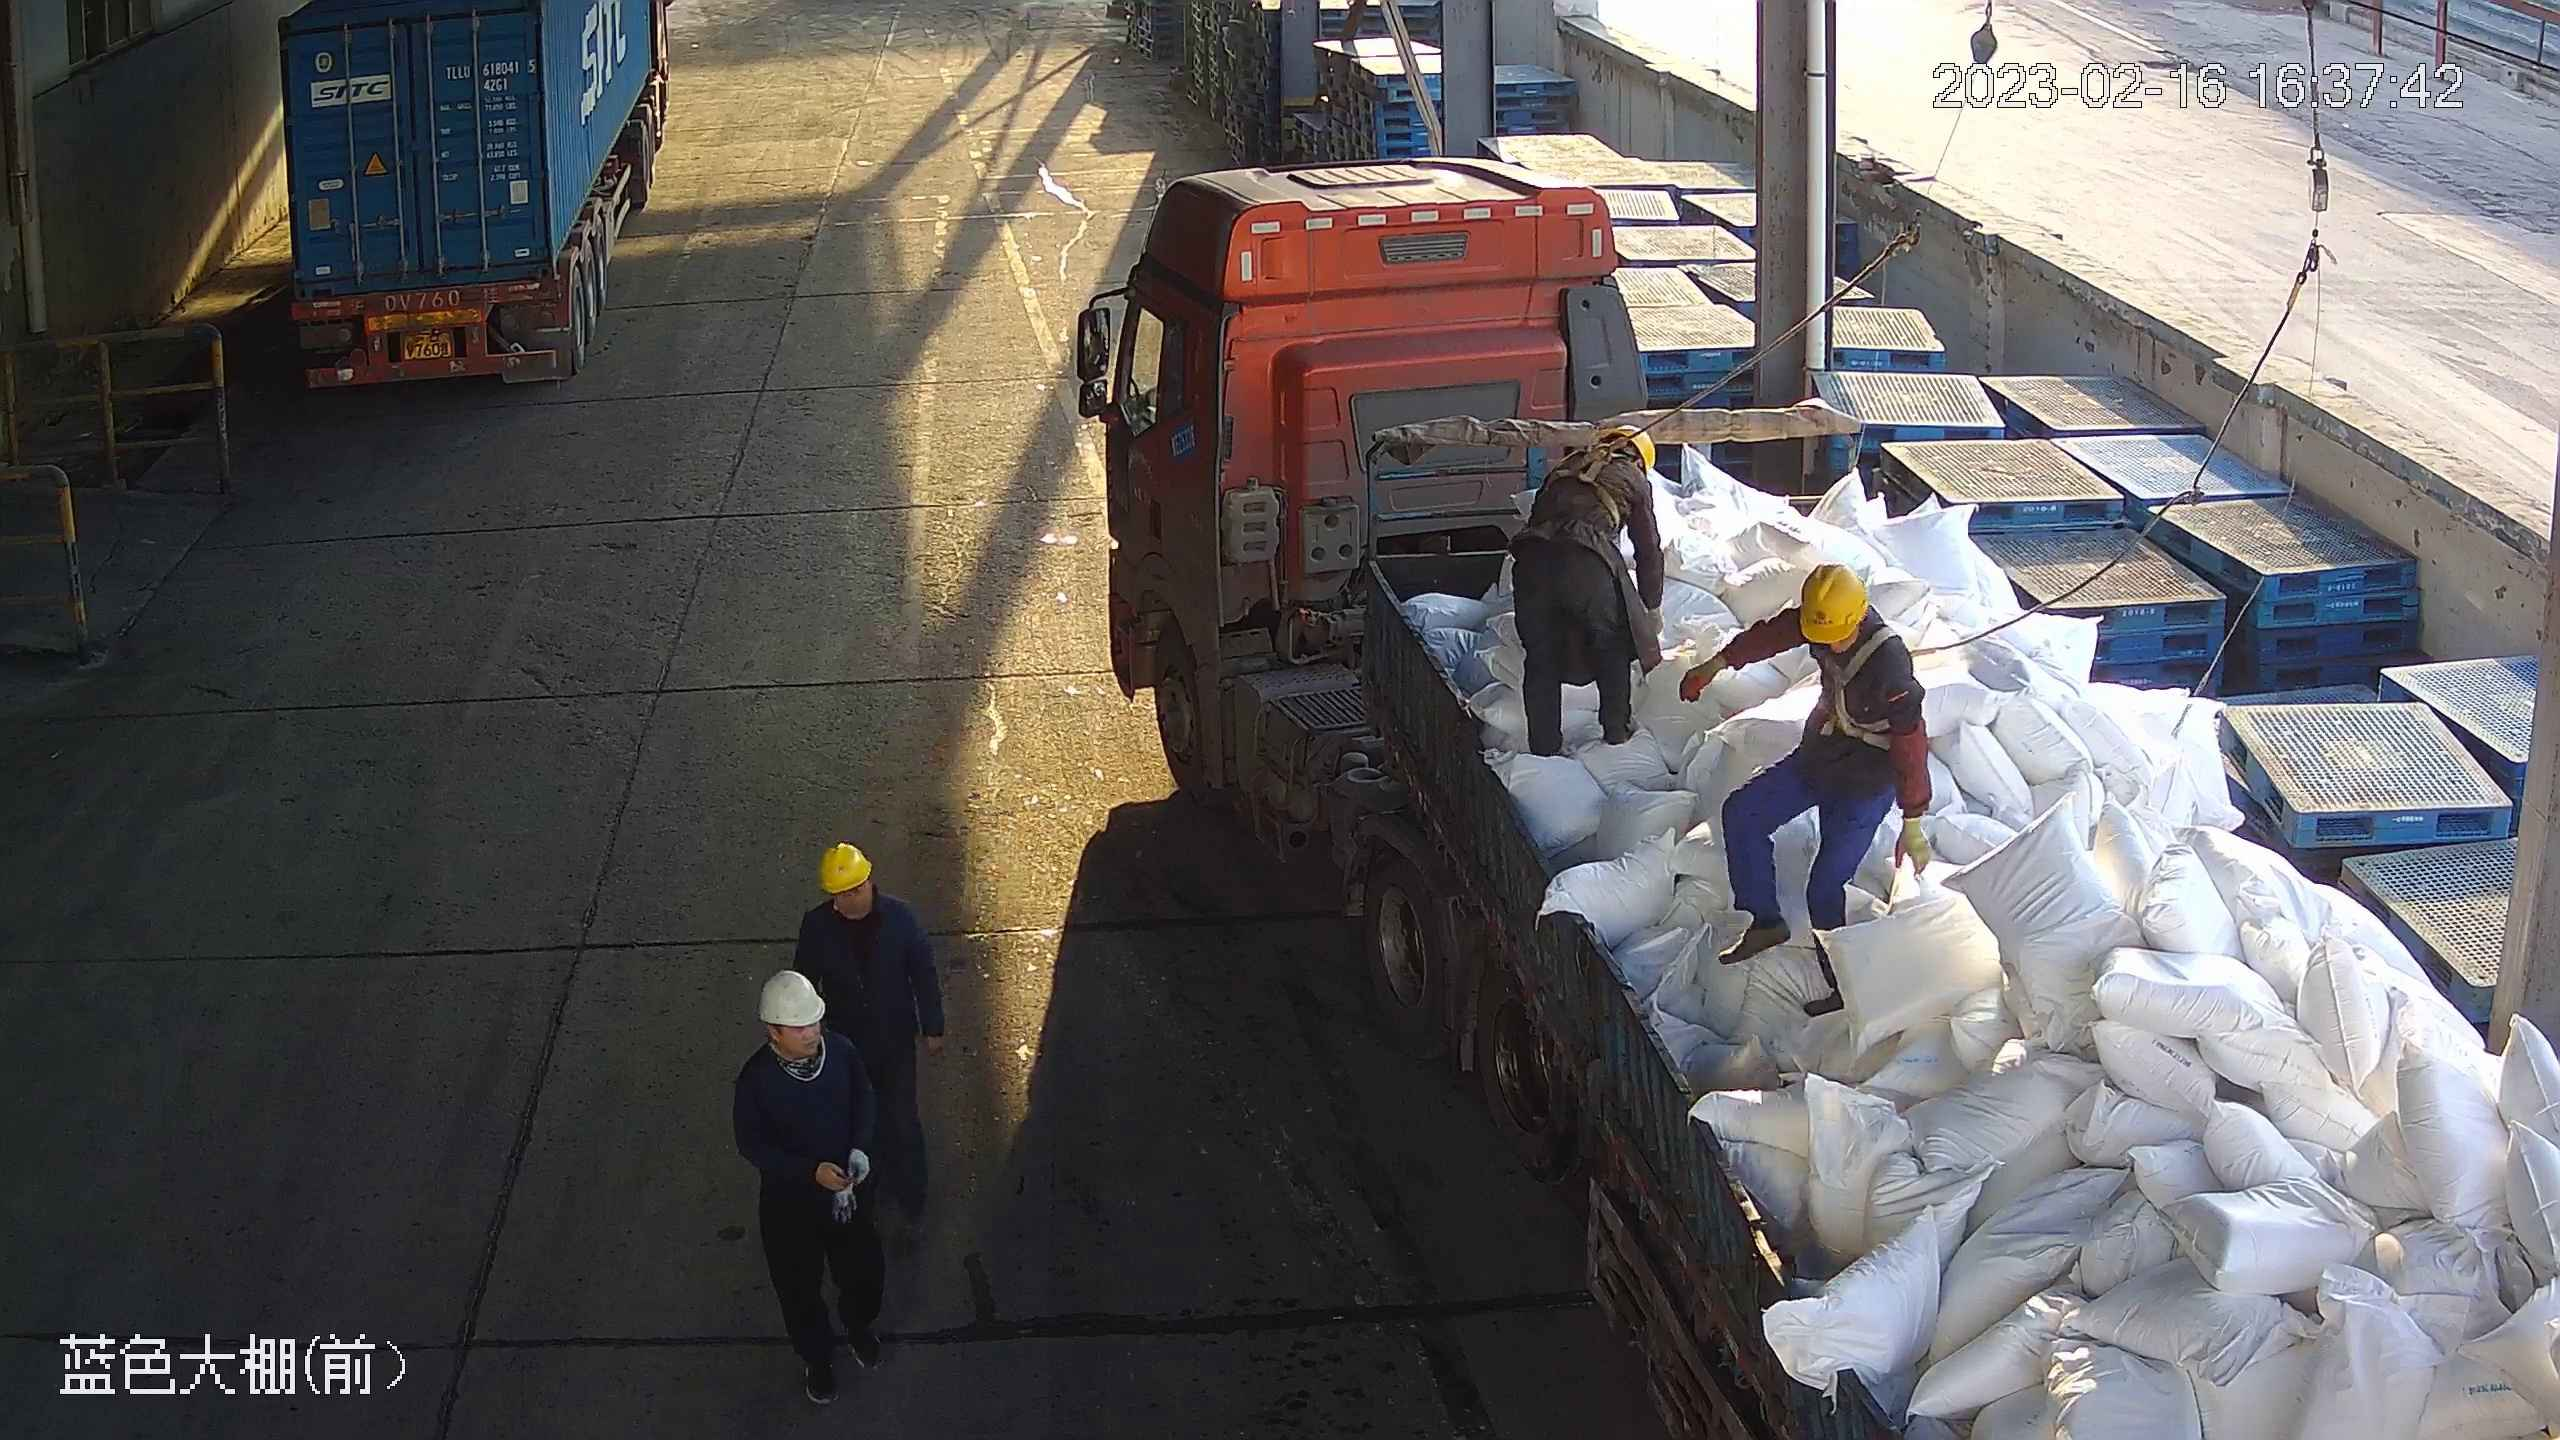belt: (1818, 625, 1903, 750), (1539, 437, 1626, 526)
head: (735, 968, 868, 1105), (1787, 565, 1914, 681), (797, 843, 917, 949), (1544, 422, 1656, 486)
helmet: (1797, 564, 1868, 643), (756, 967, 825, 1025), (1605, 423, 1656, 476), (817, 843, 871, 890)
people: (1679, 564, 1934, 1018), (734, 969, 887, 1408), (791, 843, 948, 1260), (1507, 422, 1666, 757)
truck: (1074, 159, 2560, 1440), (274, 3, 667, 392)
